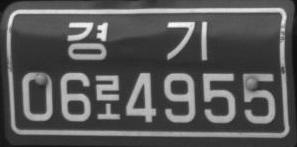0: (21, 70, 54, 122)
4: (125, 71, 157, 124)
5: (241, 71, 277, 126), (200, 71, 236, 124)
6: (58, 71, 92, 123)
9: (161, 71, 196, 124)
경기_D: (66, 20, 210, 62)
로: (94, 73, 121, 120)
